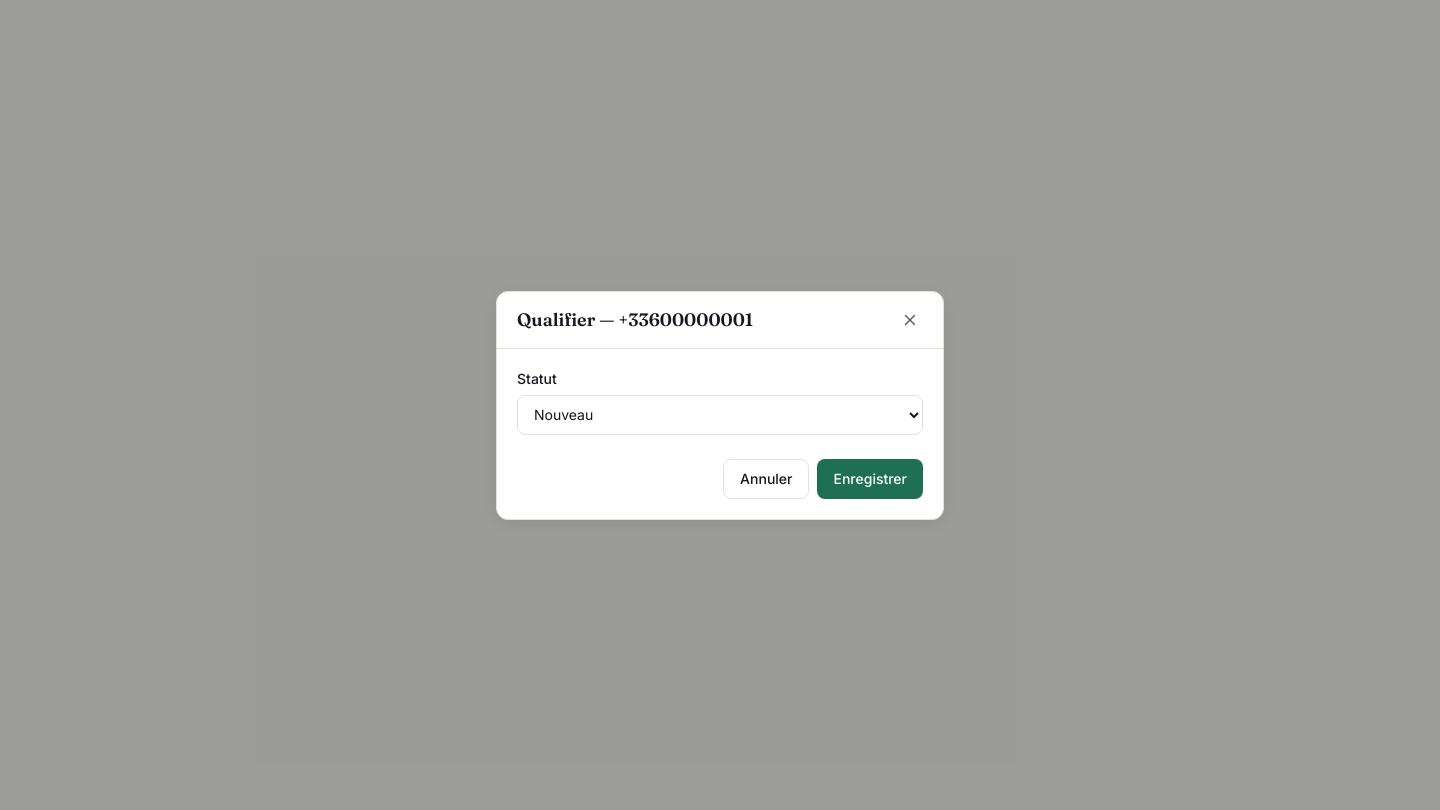
Scenario: §6.25 lot C — QualifyCallModal seule › statut modifié : confirmation
Select "RDV à planifier" in the dropdown labelled "Statut" at (720,414), box [517, 394, 923, 434]
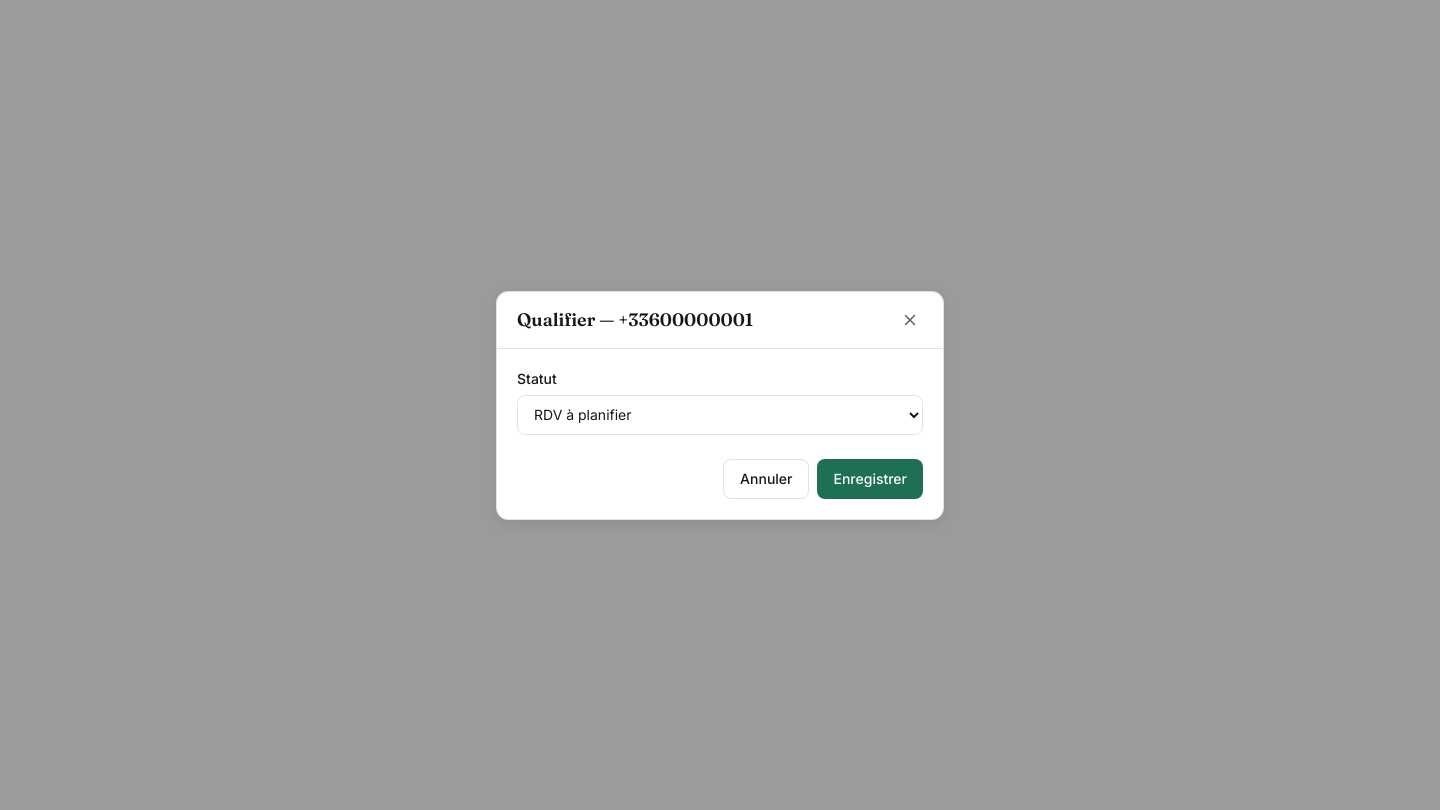
Click the button named "Fermer".
click(910, 320)  # box [897, 306, 923, 332]
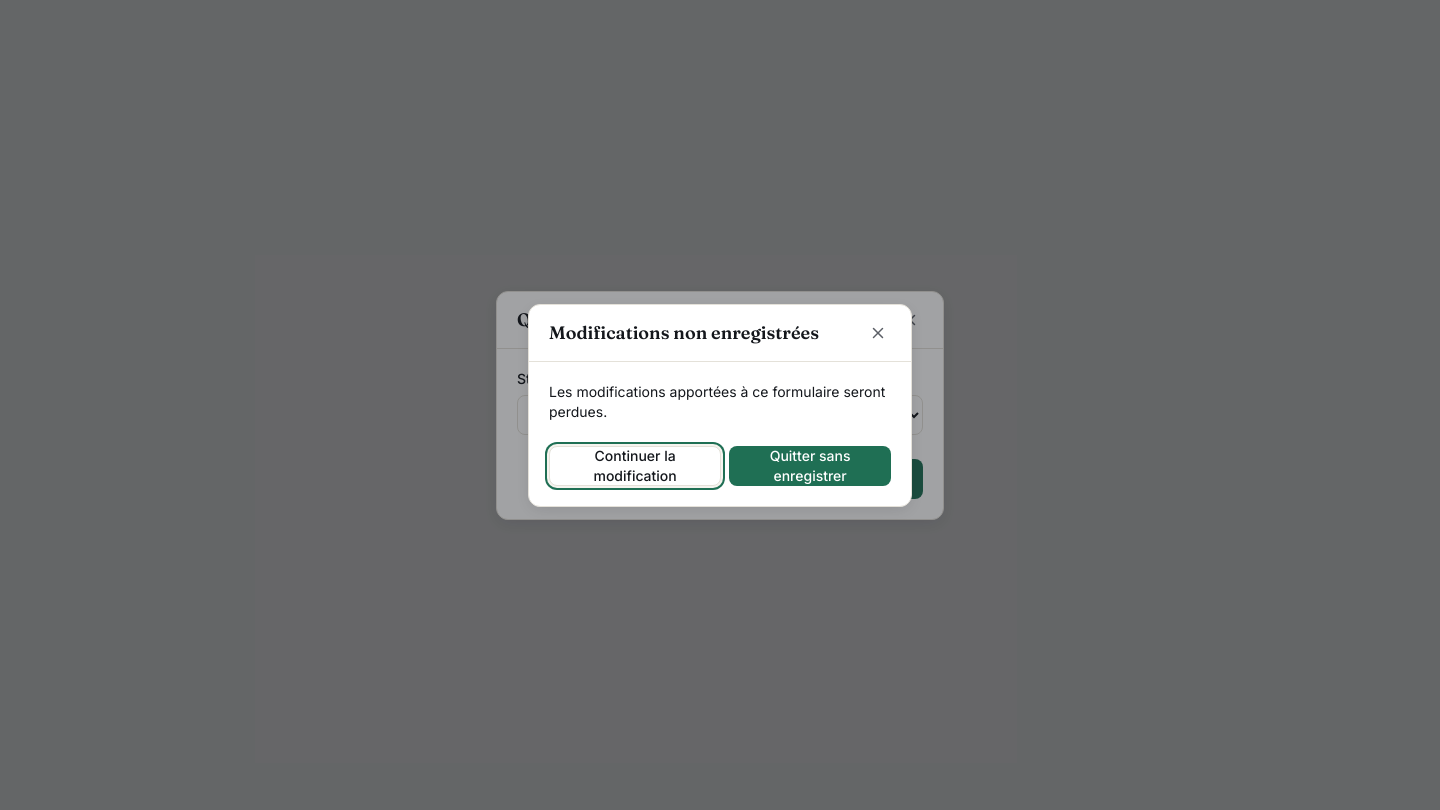
Now the heading "Modifications non enregistrées" is shown, box [549, 318, 819, 346]
